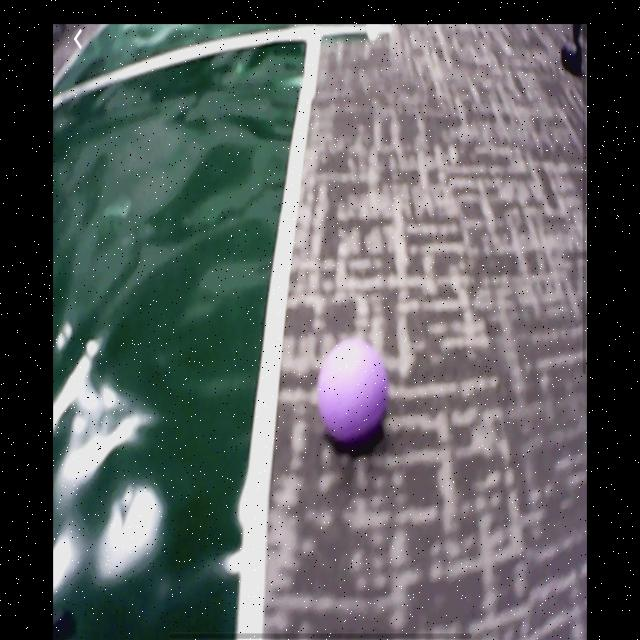ball: (316, 340, 387, 437)
